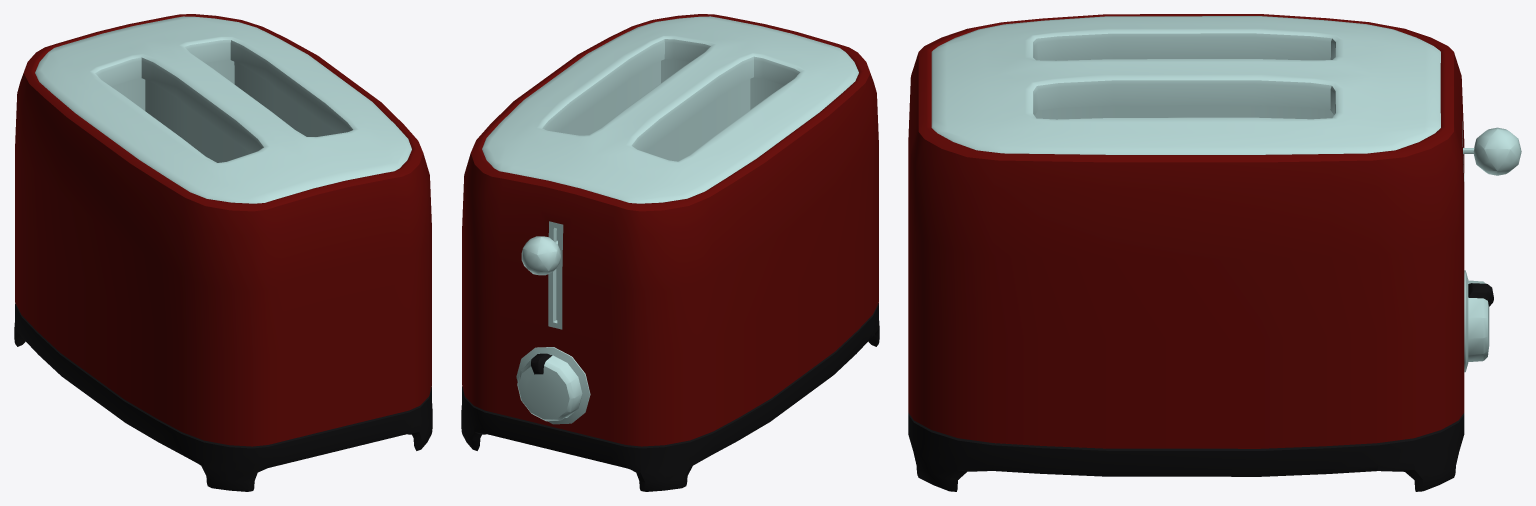
Rendered from Toaster2_tmp.fbx.
The picture shows the model from 3 angles, left to right: view 1: azimuth 30°, elevation 25°; view 2: azimuth 150°, elevation 25°; view 3: azimuth 270°, elevation 25°; orthographic projection. The views are drawn at different scales.
Visible parts, largest first — view 1: Toaster2; view 2: Toaster2, ToasterKnob2; view 3: Toaster2, ToasterKnob2.
Boxes of the visible parts, x1,y1,x2,y2 form: Toaster2: [14, 14, 432, 491]; Toaster2: [461, 14, 879, 491]; ToasterKnob2: [517, 353, 582, 421]; Toaster2: [908, 14, 1521, 491]; ToasterKnob2: [1468, 280, 1493, 361].
Bounding box in the file's own units: 127 × 136 × 211.
